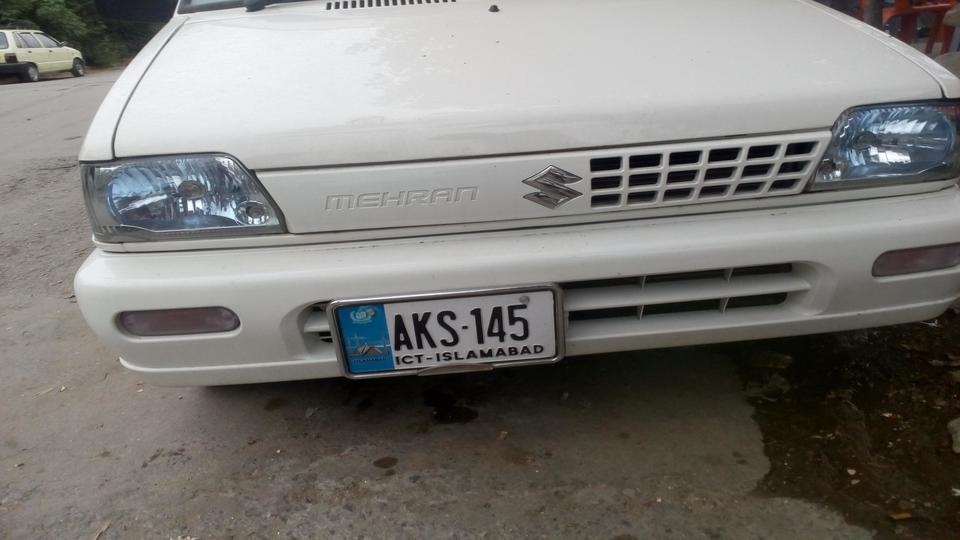NumberPlate: (330, 301, 566, 371)
